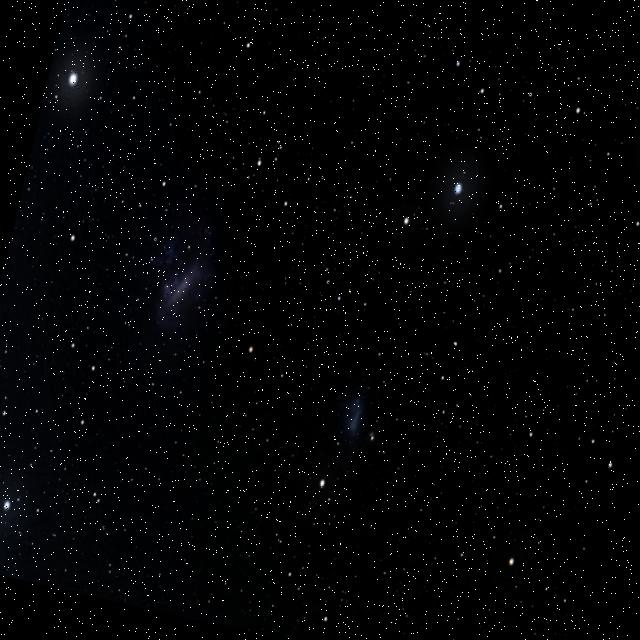Hydrus: (216, 180, 413, 506)
